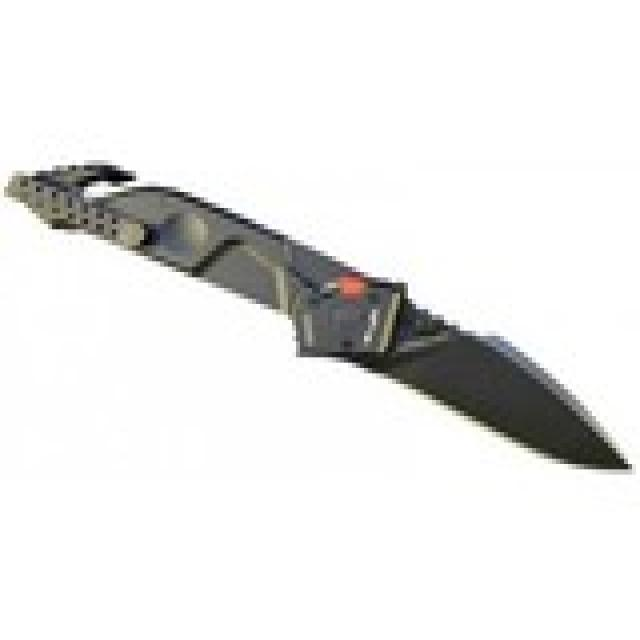Knife: (16, 130, 633, 476)
